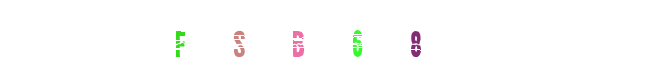6: (282, 0, 362, 80)
8: (375, 0, 455, 80)
B: (251, 0, 331, 80)
F: (231, 0, 311, 80)
S: (243, 0, 323, 80)
